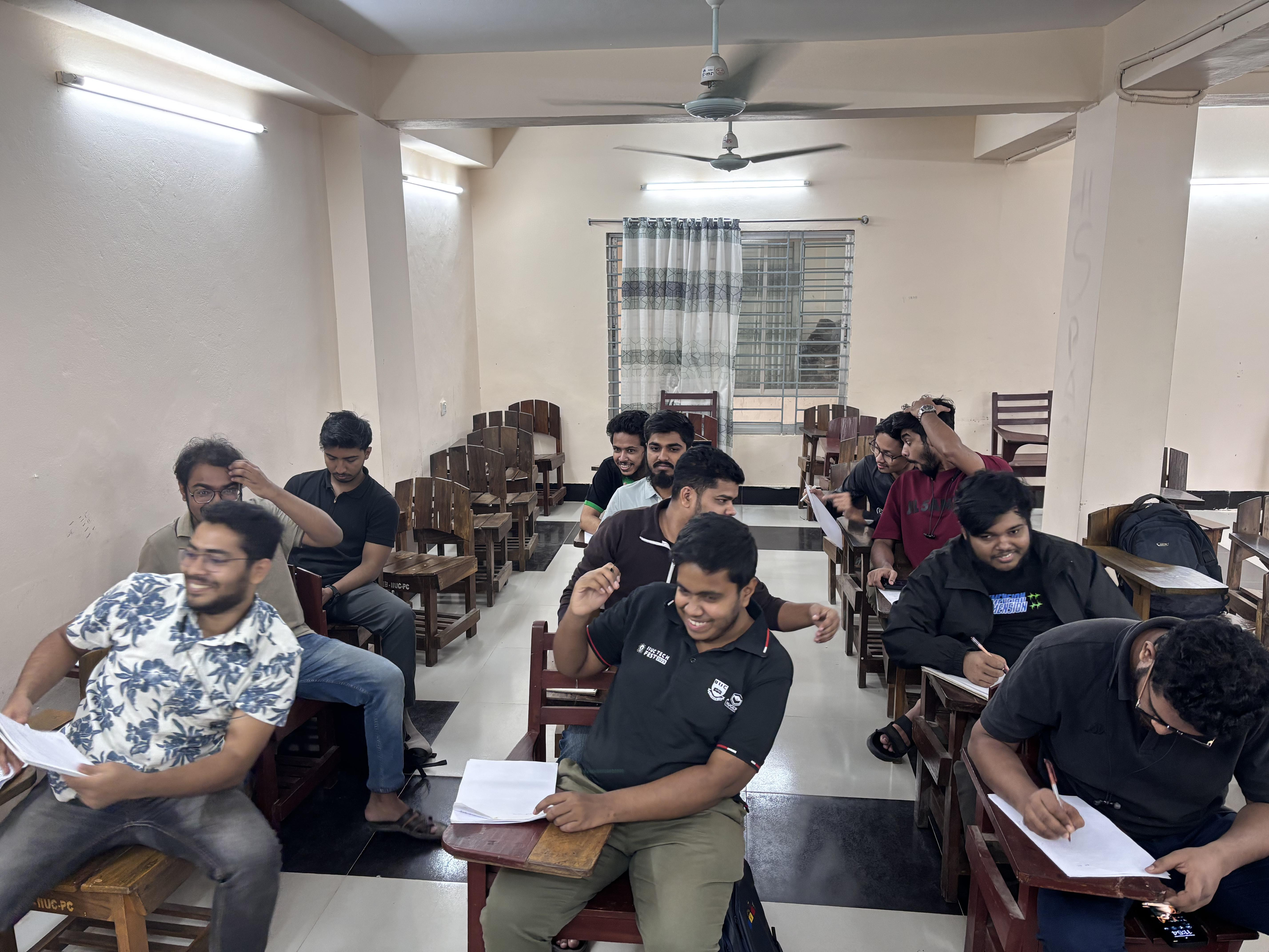hidden_communication: (818, 390, 982, 553)
no_cheating: (991, 613, 1269, 952), (903, 470, 1092, 684), (288, 404, 432, 641), (631, 397, 695, 508)
side_talking: (7, 499, 302, 871), (540, 525, 795, 871), (164, 431, 289, 539), (580, 405, 644, 510)
suspicious_moving: (565, 447, 829, 573)
